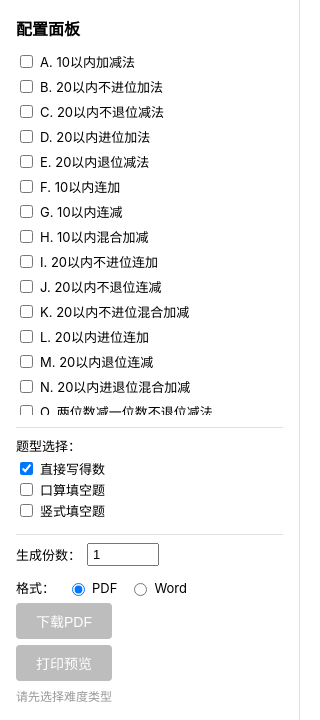
Scenario: ConfigPanel › supports multiple selections
Click the checkbox with test id "check-a" at (26, 62), box [20,55,33,68]
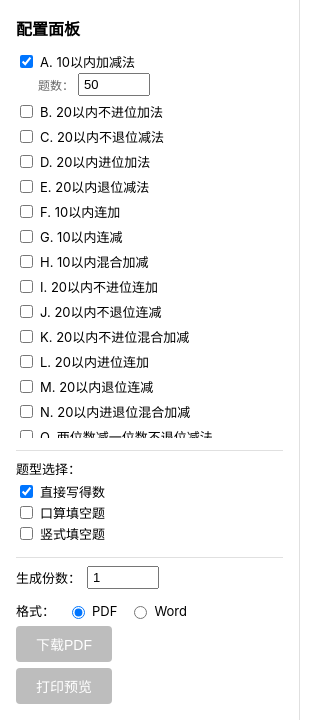
Click the checkbox with test id "check-b" at (26, 112), box [20,105,33,118]
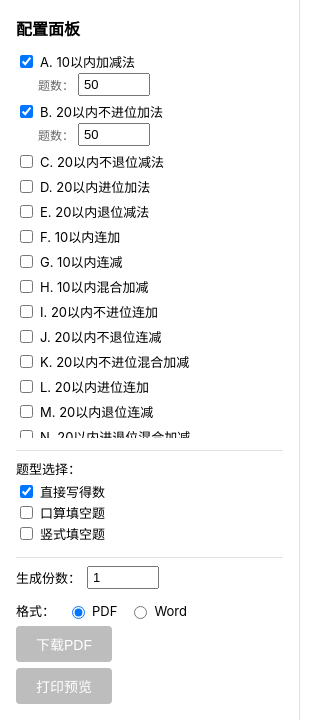
Expected: the number field with test id "count-a" is shown, [78,73,150,96]
Expected: the number field with test id "count-b" is shown, [78,123,150,146]
